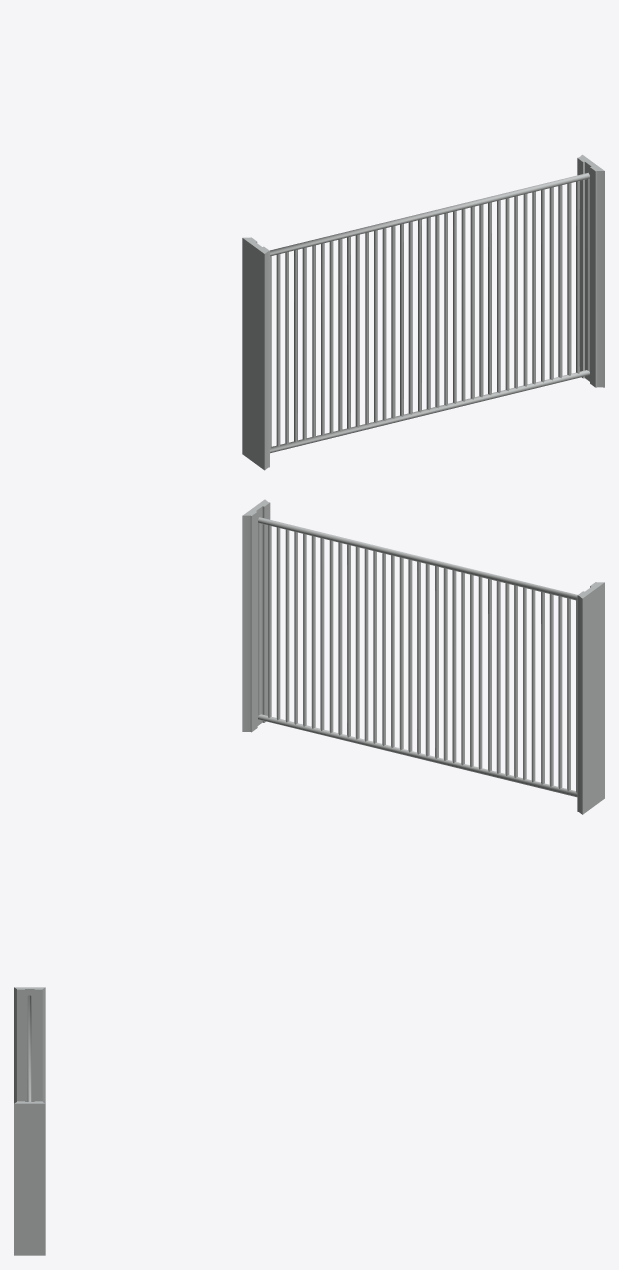
File: FridgebodymeshFridgeB6_0_GeomSubset_2.obj
3 renders of one model, top to bottom at view 1: azimuth 30°, elevation 25°; view 2: azimuth 150°, elevation 25°; view 3: azimuth 270°, elevation 25°, orthographic. The views are drawn at different scales.
Parts seen in each view (by area): view 1: FridgebodymeshFridgeB6_0_GeomSubset_2; view 2: FridgebodymeshFridgeB6_0_GeomSubset_2; view 3: FridgebodymeshFridgeB6_0_GeomSubset_2.
Part boxes in pixels (left/top/right/bottom): FridgebodymeshFridgeB6_0_GeomSubset_2: left=242, top=154, right=604, bottom=470; FridgebodymeshFridgeB6_0_GeomSubset_2: left=242, top=499, right=604, bottom=814; FridgebodymeshFridgeB6_0_GeomSubset_2: left=14, top=987, right=45, bottom=1255.
Bounding box in the file's own units: 0.724 × 0.4401 × 1.55.
Materials: 1 (1 with a texture image).
